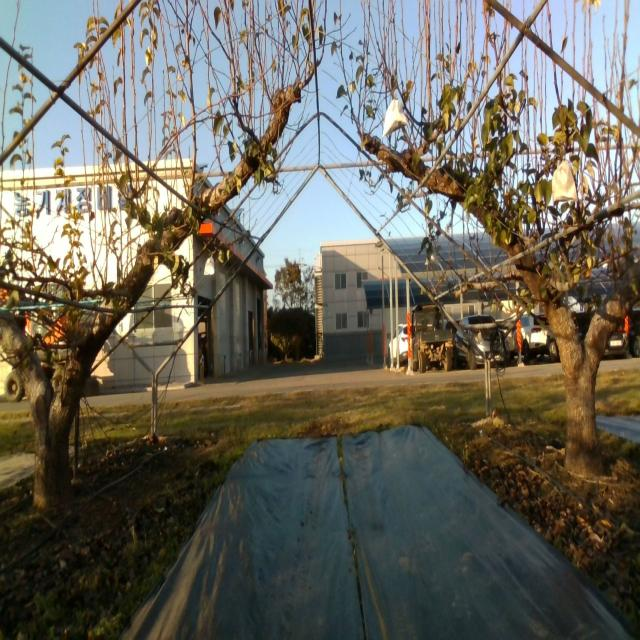pearbags: (551, 159, 579, 207), (382, 98, 408, 139), (425, 248, 439, 267), (204, 254, 215, 277)
